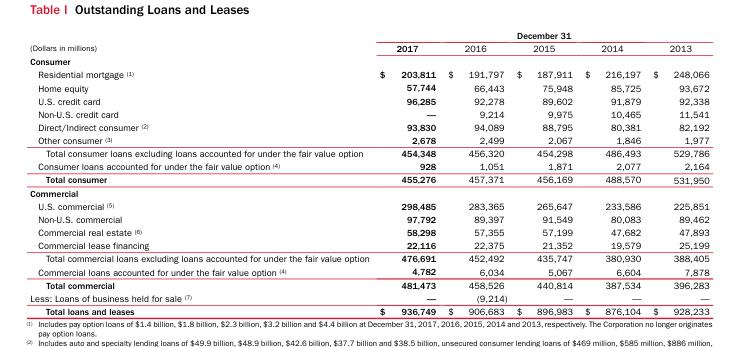table: (29, 29, 708, 316)
table column: (29, 29, 373, 316), (441, 29, 511, 316), (373, 29, 441, 316), (578, 29, 646, 316), (511, 29, 578, 316), (646, 29, 708, 316)
table column header: (29, 29, 708, 54)
table projected row header: (29, 54, 708, 67), (29, 185, 708, 198)
table row: (29, 93, 708, 107), (29, 198, 708, 212), (29, 277, 708, 291), (29, 41, 708, 54), (29, 54, 708, 67), (29, 67, 708, 80), (29, 80, 708, 93), (29, 107, 708, 120), (29, 120, 708, 133), (29, 133, 708, 146), (29, 146, 708, 159), (29, 159, 708, 172), (29, 172, 708, 185), (29, 185, 708, 198), (29, 212, 708, 225), (29, 225, 708, 238), (29, 238, 708, 251), (29, 251, 708, 264), (29, 264, 708, 277), (29, 291, 708, 304), (29, 29, 708, 41), (29, 304, 708, 316)
table spanning cell: (29, 29, 373, 54), (373, 29, 708, 41)
